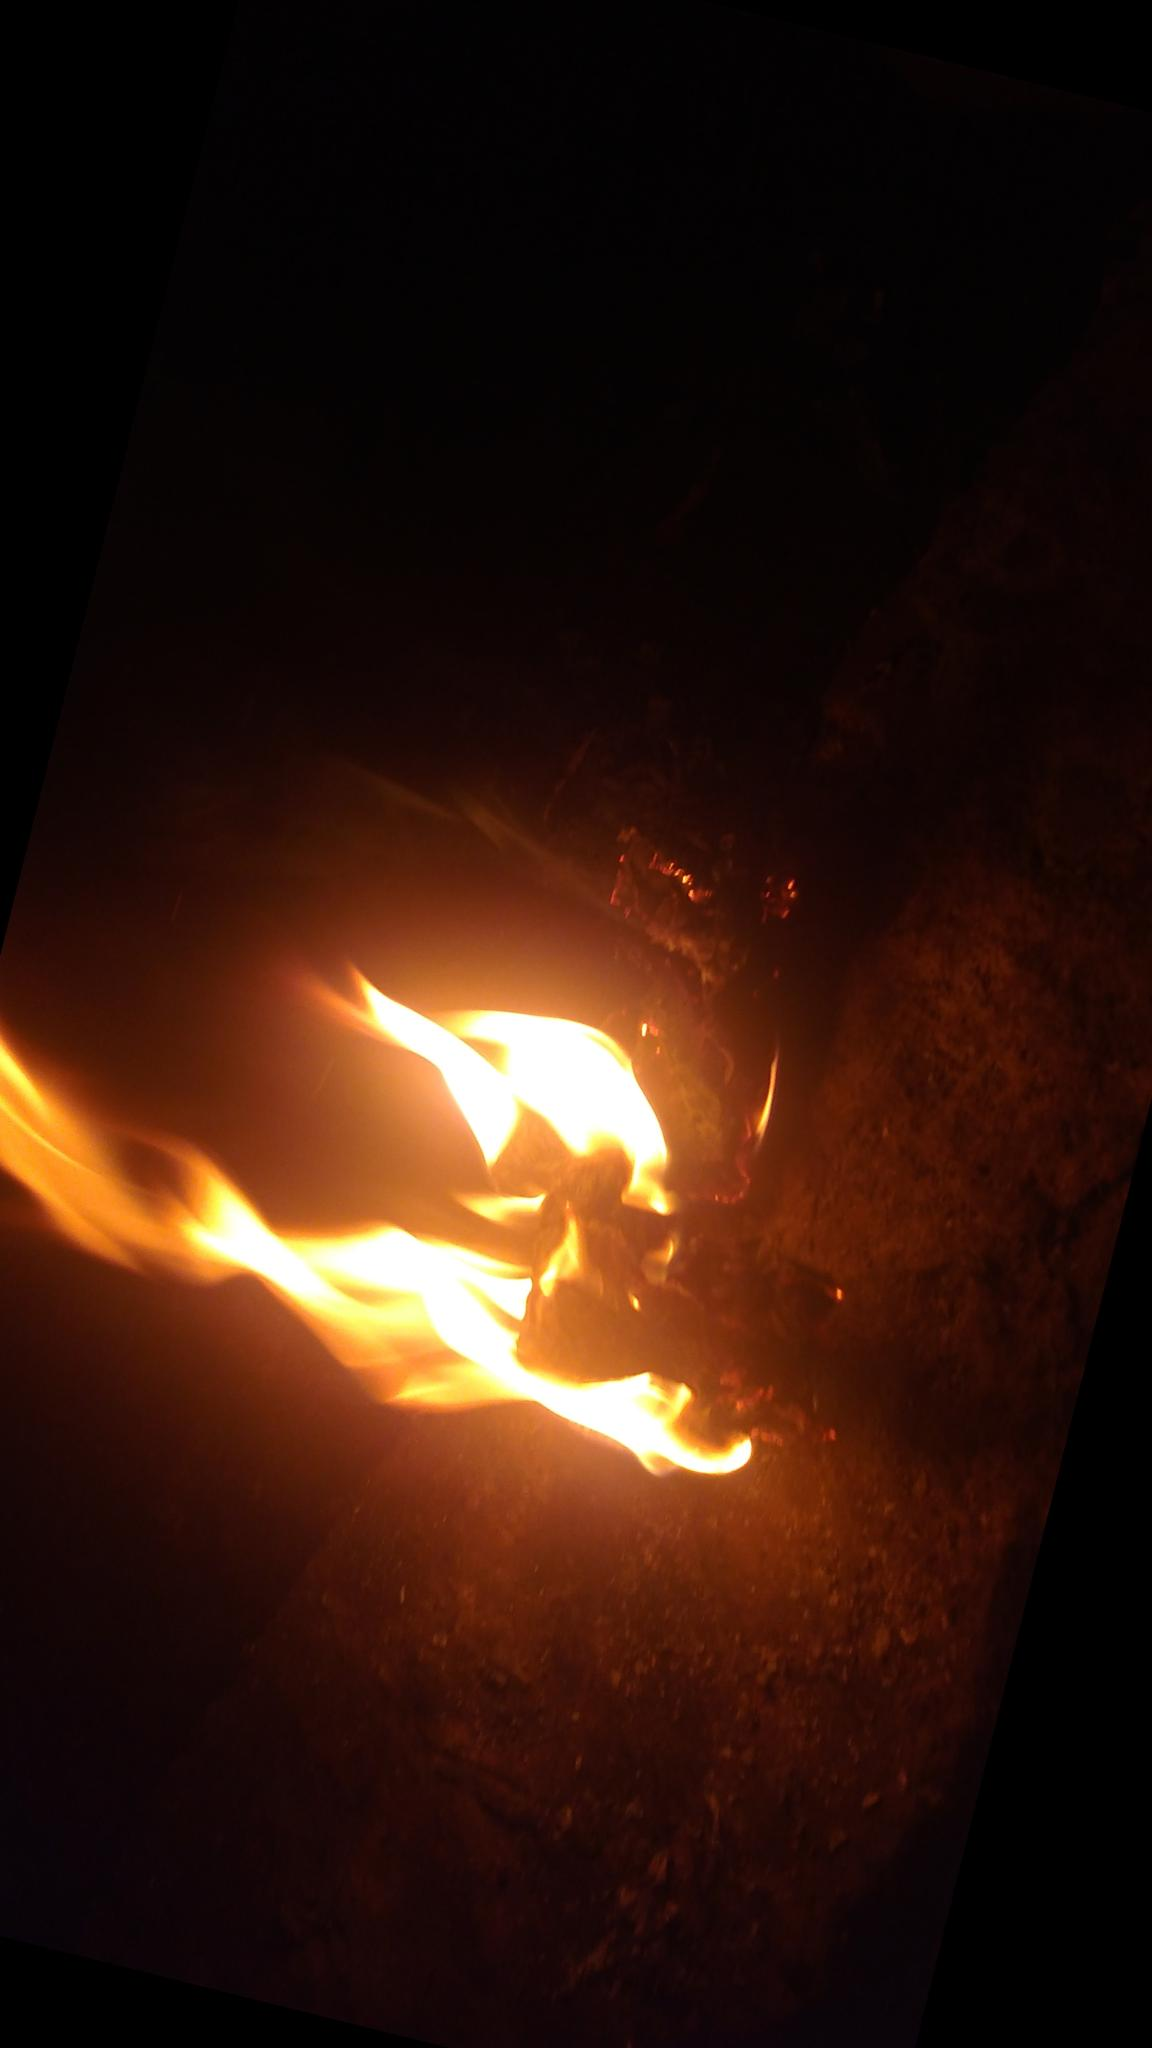Fire: (0, 868, 858, 1500)
